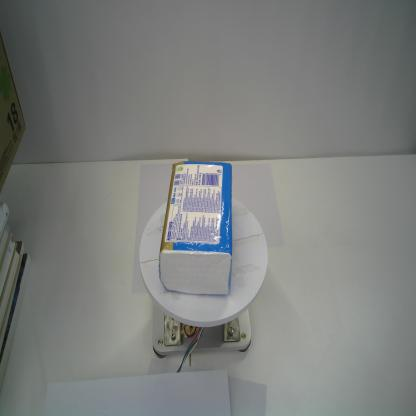Tissue: (158, 160, 234, 297)
